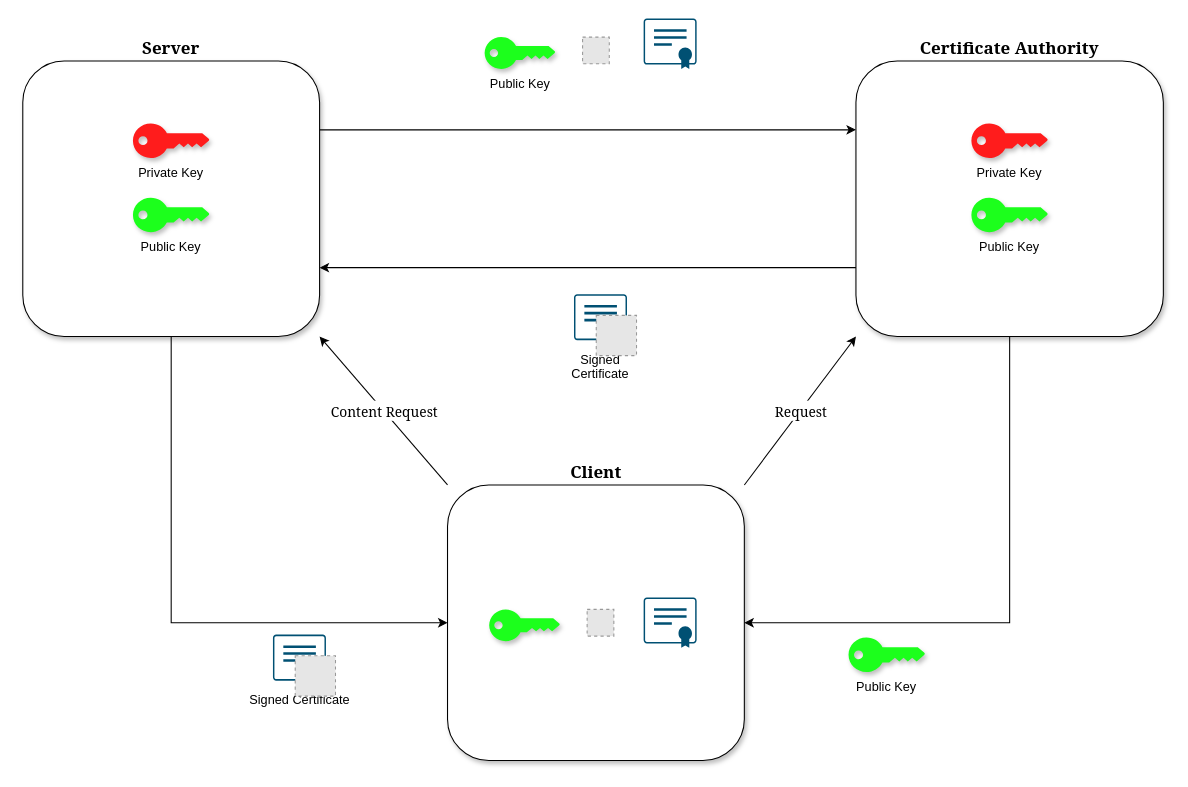
This 1188x787 diagram has some shape labels left out. Grey dashed boxes stand in for pictures. Each missing label, with the centre of its shape:
Certificate Signing Request: the point at 669,43
Server Information: the point at 669,622
Server Public Key: the point at 525,626
